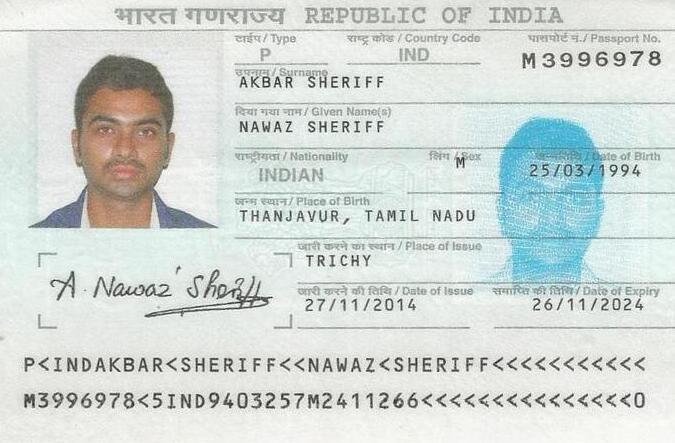DOB: (519, 156, 669, 187)
Surname: (231, 72, 393, 97)
country_code: (382, 43, 452, 68)
date_of_expiry: (519, 295, 669, 324)
date_of_issue: (295, 289, 430, 320)
details: (14, 350, 658, 433)
name: (229, 115, 403, 145)
nationality: (230, 163, 380, 192)
passport_no: (512, 46, 670, 77)
photo: (35, 41, 217, 230)
place_of_birth: (231, 203, 537, 232)
place_of_issue: (291, 248, 409, 277)
sex: (433, 151, 487, 178)
sign: (42, 262, 274, 323)
type: (239, 44, 301, 67)
